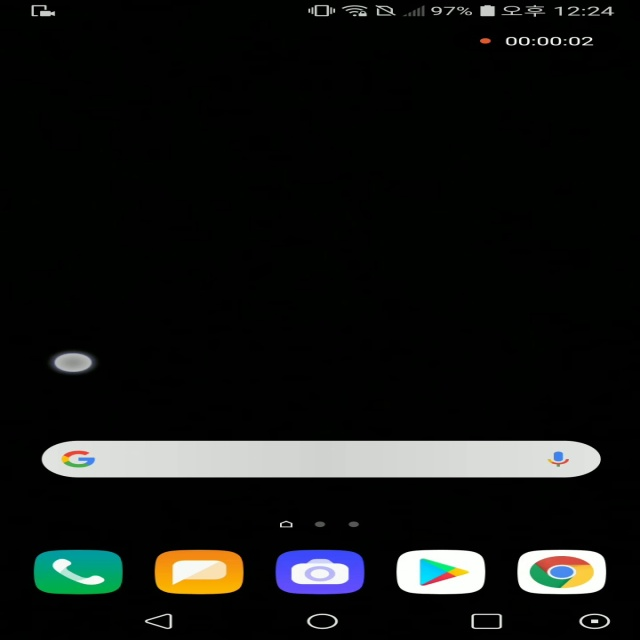Cursor: (50, 352, 95, 374)
